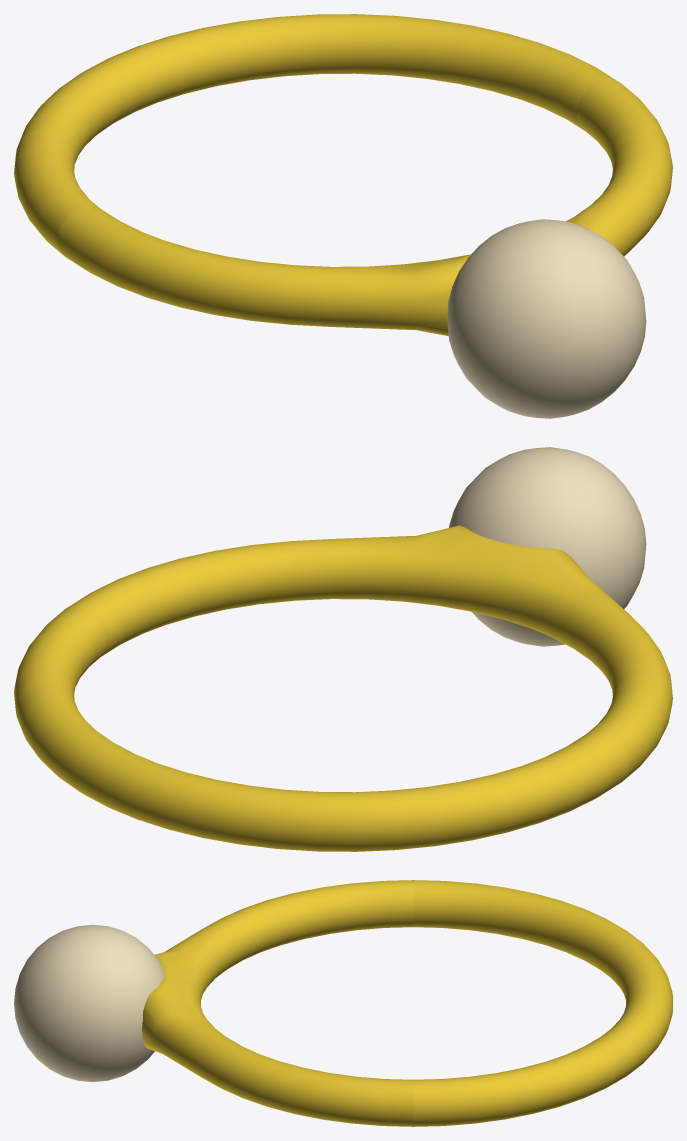
The model's file is GoldPearlRing_v2.fbx.
The picture shows the model from 3 angles, top to bottom: view 1: azimuth 30°, elevation 25°; view 2: azimuth 150°, elevation 25°; view 3: azimuth 270°, elevation 25°; orthographic projection. The views are drawn at different scales.
Visible parts, largest first — view 1: RingTop, RingBottom; view 2: RingTop, RingBottom; view 3: RingTop, RingBottom.
Part boxes in pixels (bbox=[...]): RingTop: bbox=[58, 79, 672, 418]; RingBottom: bbox=[14, 14, 616, 255]; RingTop: bbox=[70, 447, 672, 781]; RingBottom: bbox=[14, 604, 628, 851]; RingTop: bbox=[14, 880, 413, 1126]; RingBottom: bbox=[413, 880, 672, 1126].
Bounding box in the file's own units: 66 × 20 × 83.62.
